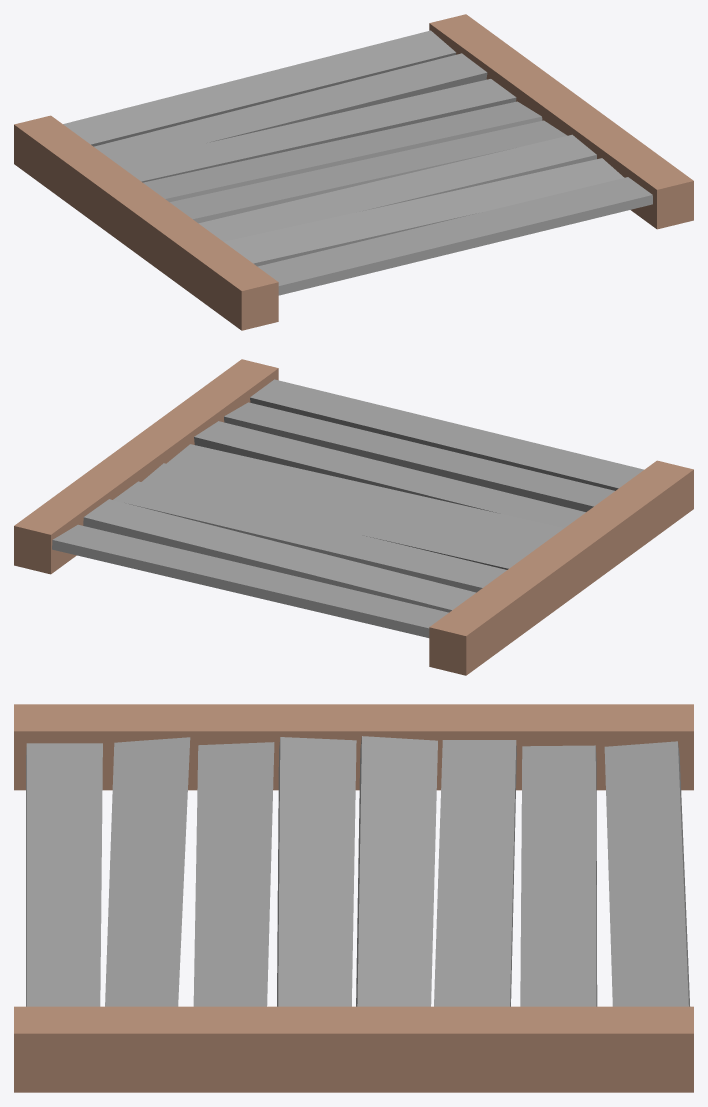
Rendered from bridge_piece_02.fbx.
3 views of the same model, one above another, from view 1: azimuth 30°, elevation 25°; view 2: azimuth 150°, elevation 25°; view 3: azimuth 270°, elevation 25° (orthographic). The views are drawn at different scales.
Visible parts, largest first — view 1: pCube150; view 2: pCube150; view 3: pCube150.
Part boxes in pixels (x1=…): pCube150: x1=14, y1=14, x2=693, y2=330; pCube150: x1=14, y1=359, x2=693, y2=675; pCube150: x1=14, y1=704, x2=693, y2=1092.
Size of the model in its own units: 435 by 36.42 by 380.
